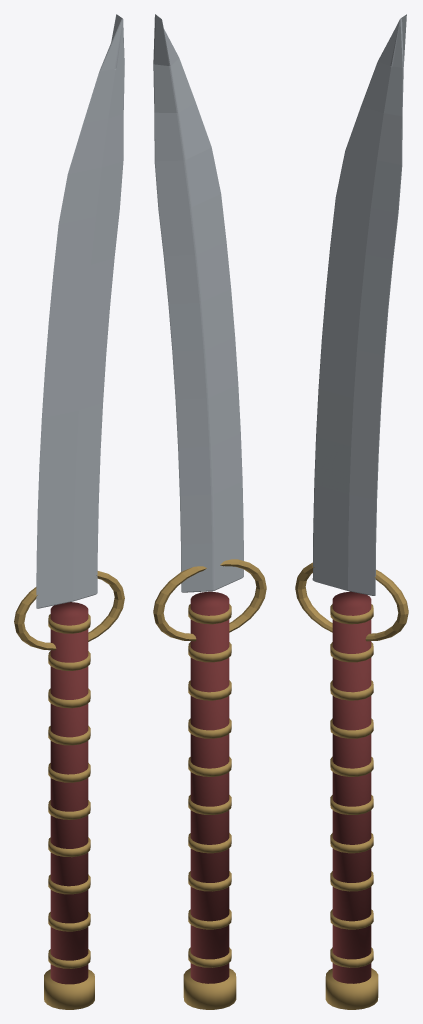
Rendered from katana.fbx.
3 renders of one model, left to right at view 1: azimuth 30°, elevation 25°; view 2: azimuth 210°, elevation 25°; view 3: azimuth 330°, elevation 25°, orthographic. The views are drawn at different scales.
Parts seen in each view (by area): view 1: KatanaBlade, KatanaHandle, KatanaGuard, KatanaPommel, KatanaWrap02, KatanaWrap06, KatanaWrap04, KatanaWrap09, KatanaWrap01, KatanaWrap05, KatanaWrap08, KatanaWrap00 (+2 smaller); view 2: KatanaBlade, KatanaHandle, KatanaGuard, KatanaPommel, KatanaWrap00, KatanaWrap06, KatanaWrap01, KatanaWrap02, KatanaWrap05, KatanaWrap07, KatanaWrap08, KatanaWrap09 (+2 smaller); view 3: KatanaBlade, KatanaHandle, KatanaGuard, KatanaPommel, KatanaWrap00, KatanaWrap06, KatanaWrap01, KatanaWrap02, KatanaWrap05, KatanaWrap07, KatanaWrap08, KatanaWrap09 (+2 smaller).
Boxes of the visible parts, x1,y1,x2,y2 form: KatanaBlade: [36, 14, 124, 608]; KatanaHandle: [50, 602, 88, 984]; KatanaGuard: [14, 571, 124, 650]; KatanaPommel: [44, 969, 94, 1009]; KatanaWrap02: [48, 874, 90, 894]; KatanaWrap06: [48, 725, 90, 745]; KatanaWrap04: [48, 800, 90, 819]; KatanaWrap09: [48, 614, 90, 633]; KatanaWrap01: [48, 912, 90, 931]; KatanaWrap05: [48, 763, 90, 782]; KatanaWrap08: [48, 651, 90, 670]; KatanaWrap00: [48, 949, 90, 968]; KatanaBlade: [153, 14, 243, 592]; KatanaHandle: [190, 591, 229, 983]; KatanaGuard: [153, 559, 266, 641]; KatanaPommel: [183, 968, 236, 1009]; KatanaWrap00: [188, 947, 231, 967]; KatanaWrap06: [188, 718, 231, 738]; KatanaWrap01: [188, 909, 231, 929]; KatanaWrap02: [188, 871, 231, 891]; KatanaWrap05: [188, 756, 231, 776]; KatanaWrap07: [188, 680, 231, 700]; KatanaWrap08: [188, 642, 231, 662]; KatanaWrap09: [188, 604, 231, 624]; KatanaBlade: [312, 14, 406, 595]; KatanaHandle: [332, 591, 371, 983]; KatanaGuard: [295, 562, 408, 641]; KatanaPommel: [325, 968, 378, 1009]; KatanaWrap00: [330, 947, 373, 967]; KatanaWrap06: [330, 718, 373, 738]; KatanaWrap01: [330, 909, 373, 929]; KatanaWrap02: [330, 871, 373, 891]; KatanaWrap05: [330, 756, 373, 776]; KatanaWrap07: [330, 680, 373, 700]; KatanaWrap08: [330, 642, 373, 662]; KatanaWrap09: [330, 604, 373, 624].
Bounding box in the file's own units: 0.1266 × 1.07 × 0.0513.
